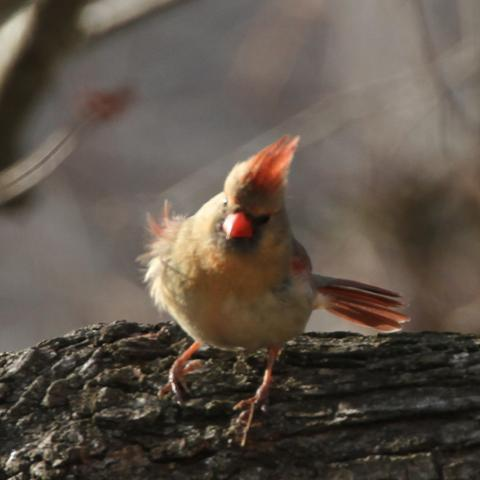bird: (134, 132, 410, 446)
